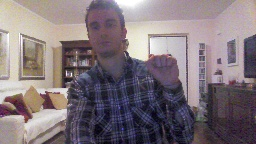Pugno: (143, 53, 180, 86)
